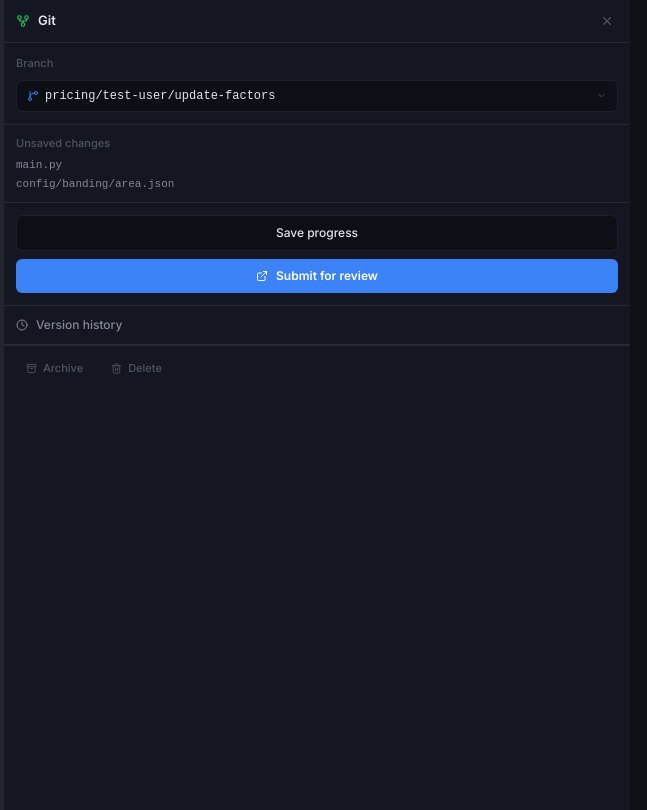
Test: GitPanel › shows confirmation before delete
Note: Click the Delete button in the branch management area (not the confirmation)
Click the button "Delete" at (137, 368), box [101, 356, 172, 380]
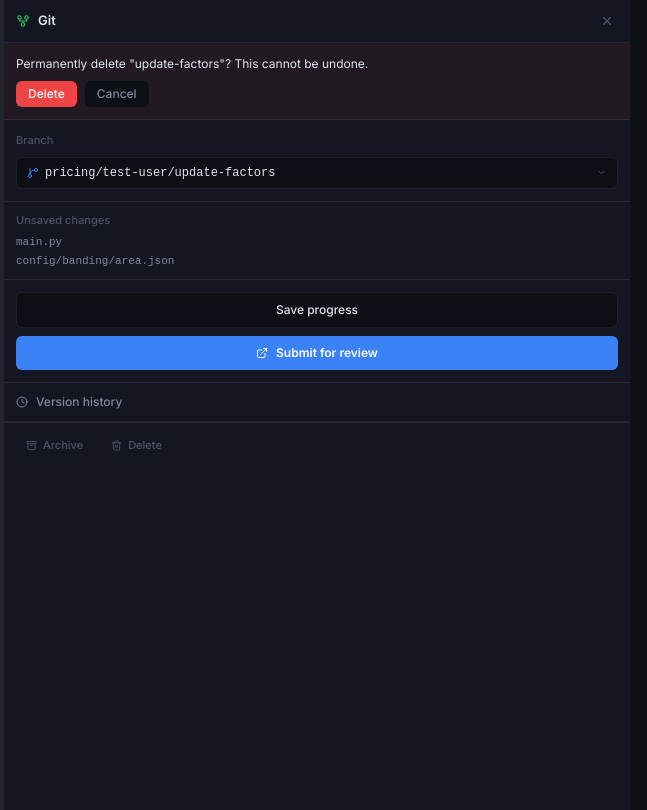
Expected: the text "Permanently delete \"update-factors\"? This cannot be undone." is shown, [16, 56, 368, 71]
